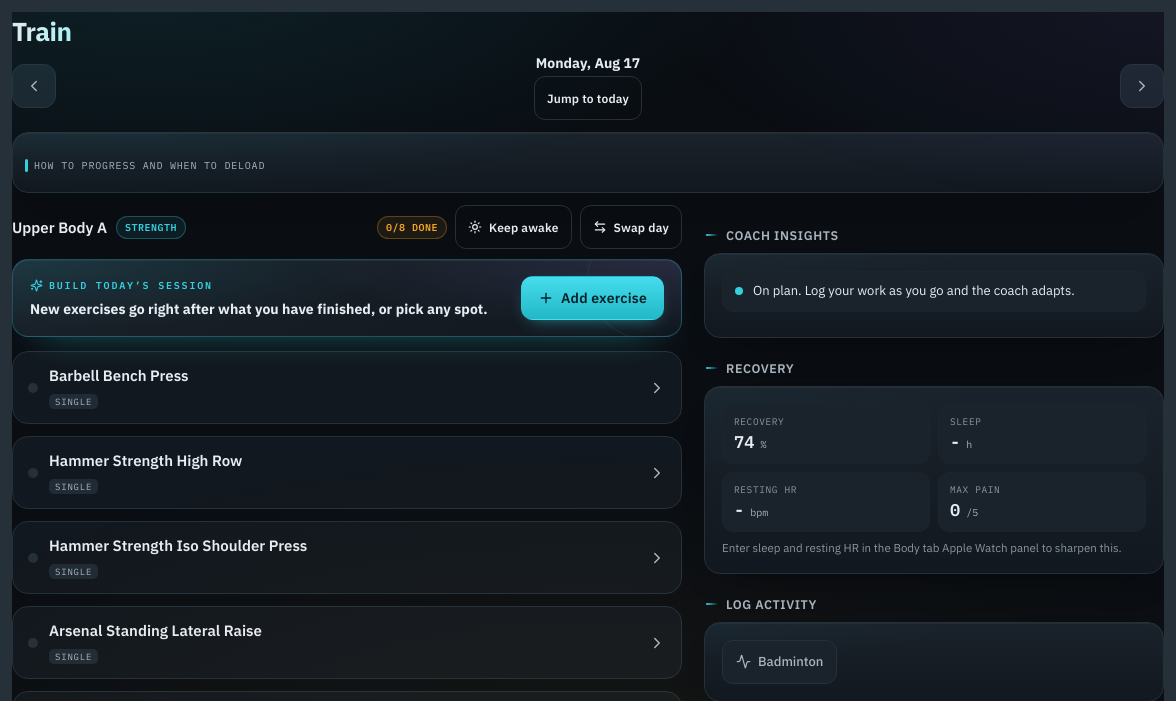
Train workout blocks start folded and open when selected
Click the button "Barbell Bench Press single" at [119, 376], box x1=13 y1=352 x2=681 y2=423
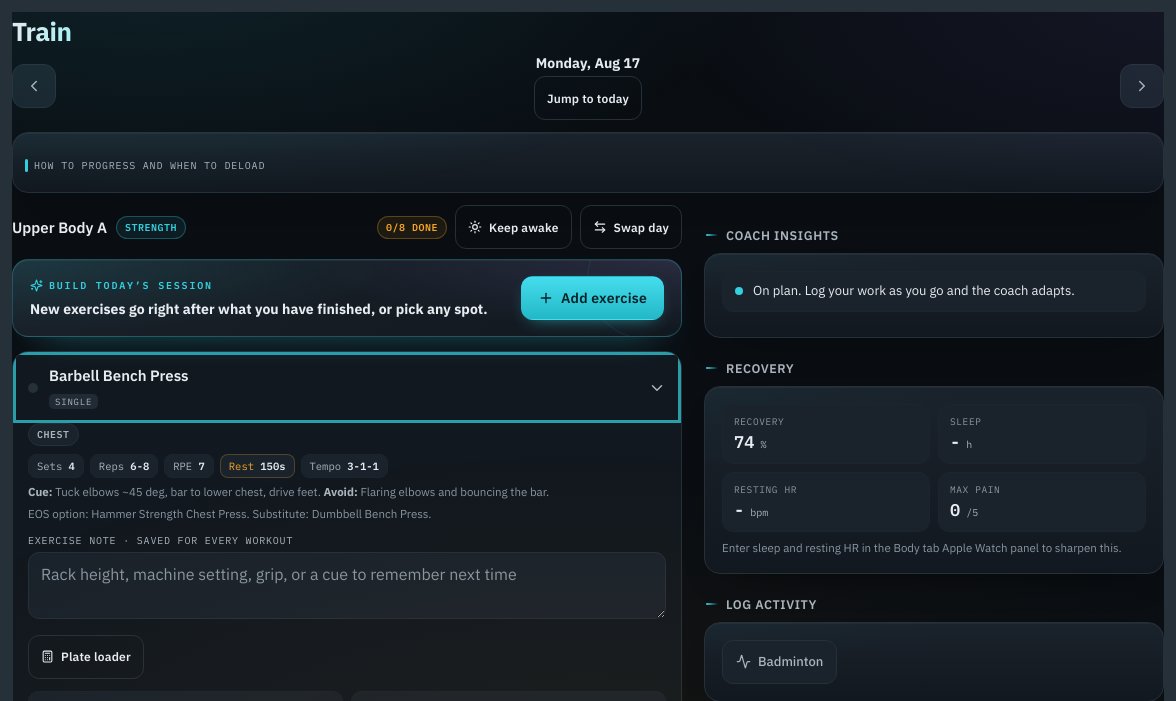
Now the button "Barbell Bench Press single" is expanded
Click the button "Barbell Bench Press single" at [119, 376], box x1=13 y1=352 x2=681 y2=423
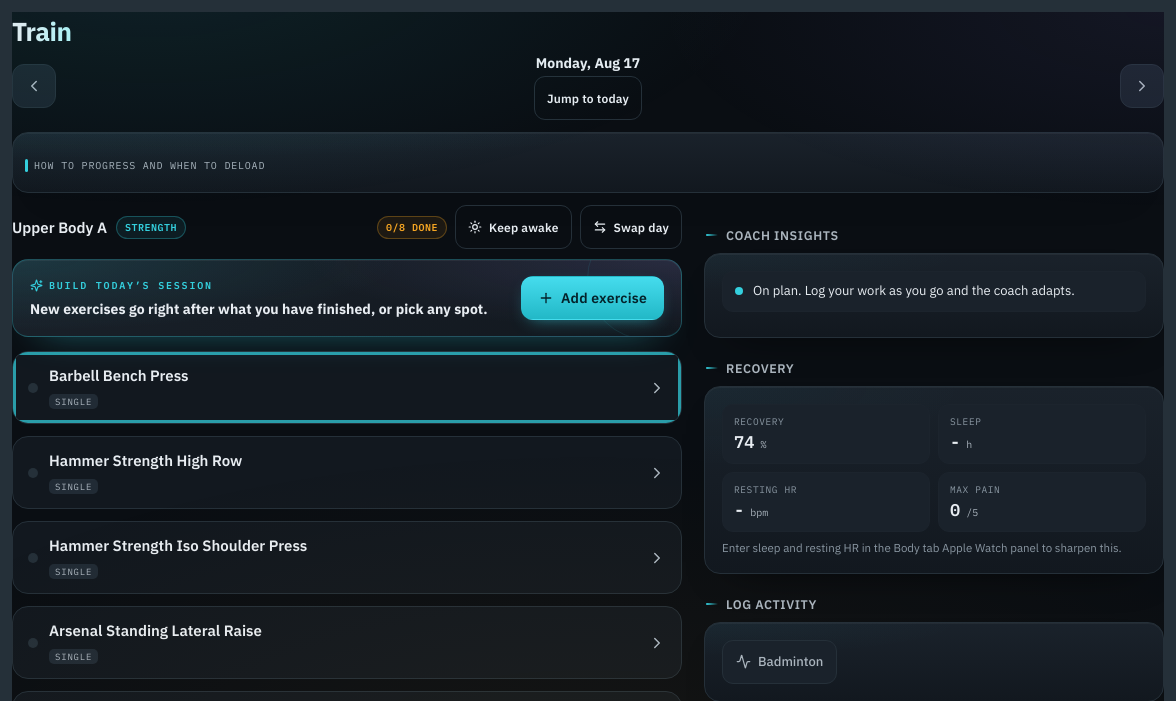
Now the button "Barbell Bench Press single" is collapsed, box x1=13 y1=352 x2=681 y2=423
